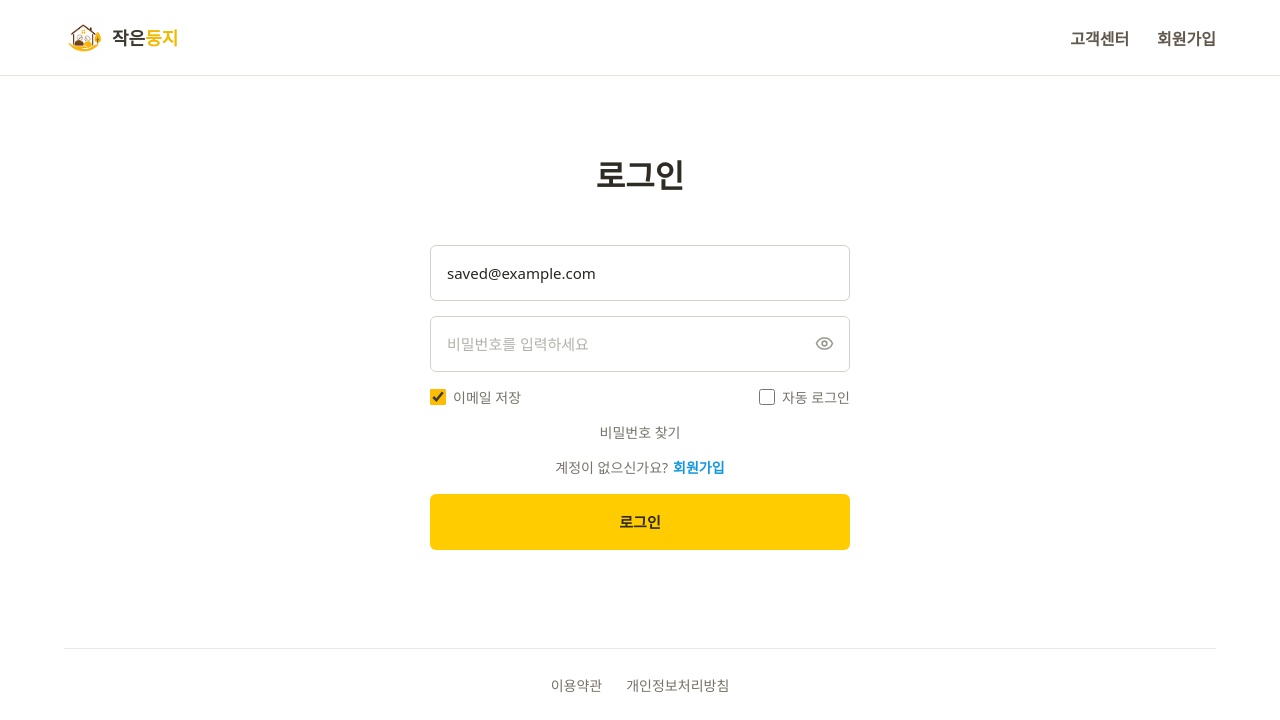
Test: EmailLoginView › loads the saved email and keeps login errors on the page
This screenshot has width=1280, height=720.
Check: the field named "email" holds "saved@example.com", box x1=430 y1=245 x2=850 y2=301
Check: the checkbox named "saveEmail" is checked, box x1=430 y1=389 x2=446 y2=405
Type "WrongPassword!23" into the password field named "password". click: (640, 344)
box: x1=430 y1=316 x2=850 y2=372
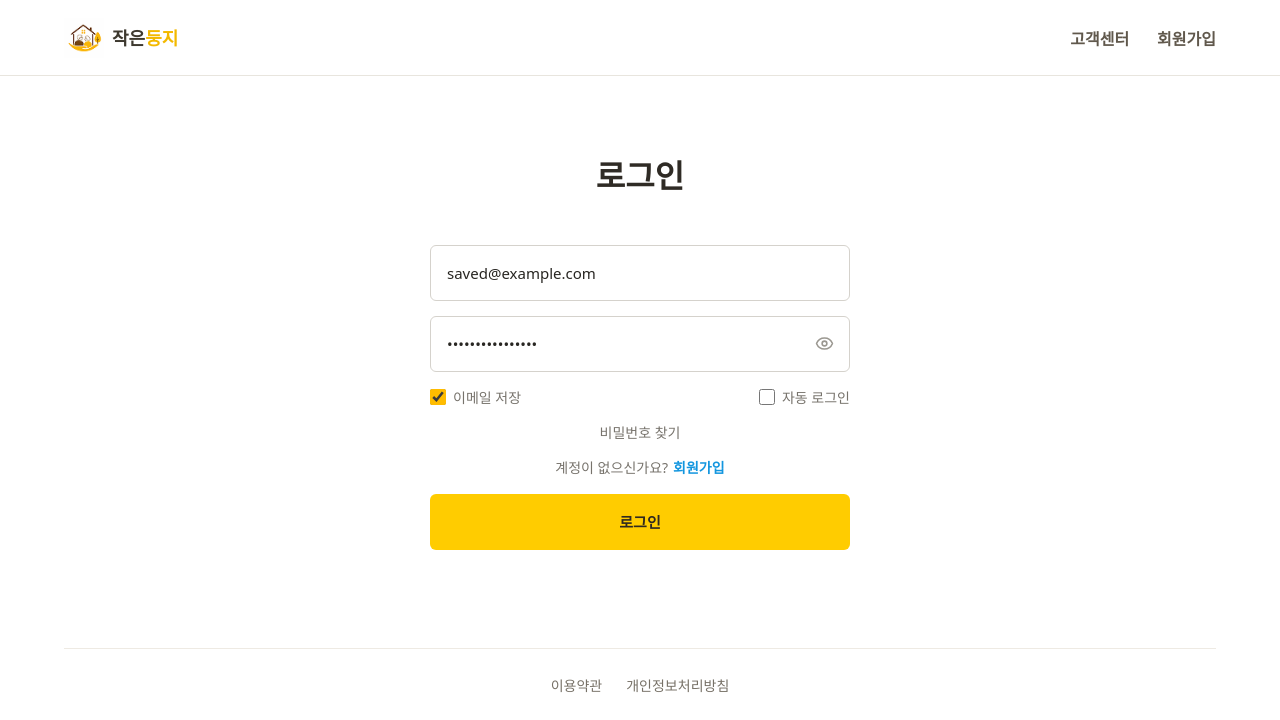
Submit the form, box x1=430 y1=245 x2=850 y2=550
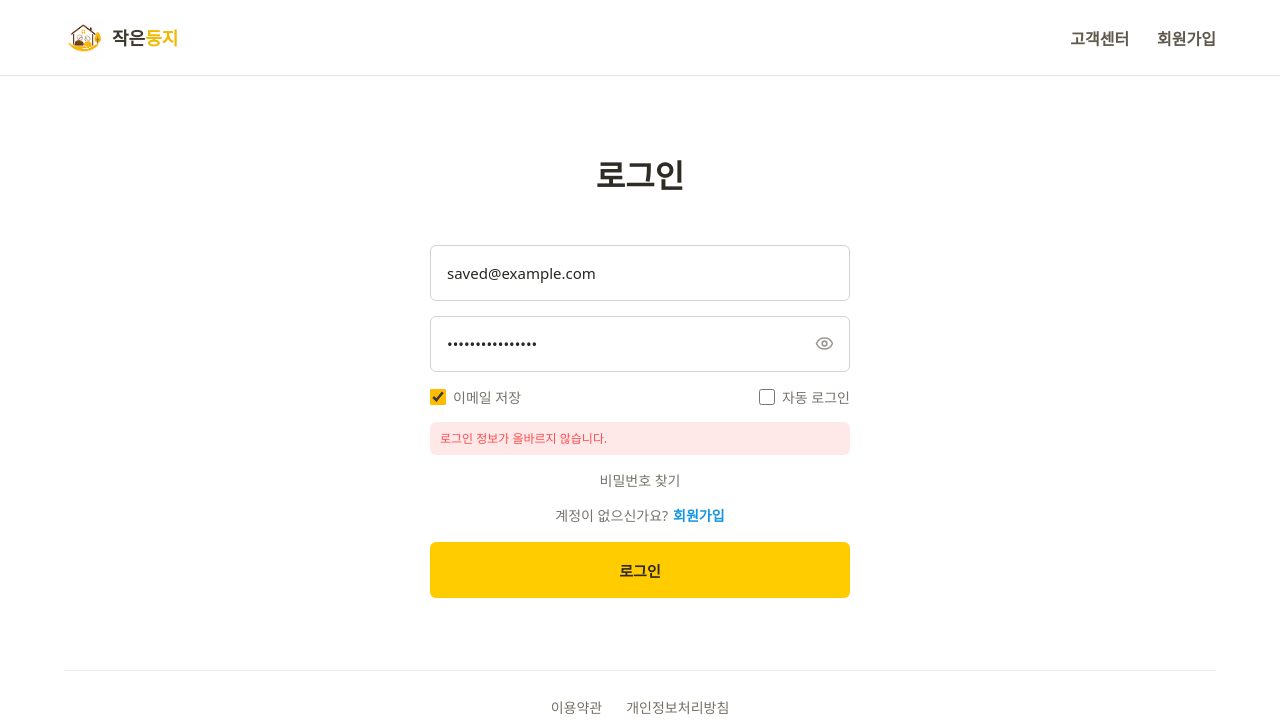
Check: the text "로그인 정보가 올바르지 않습니다." is shown, box x1=430 y1=422 x2=850 y2=455
